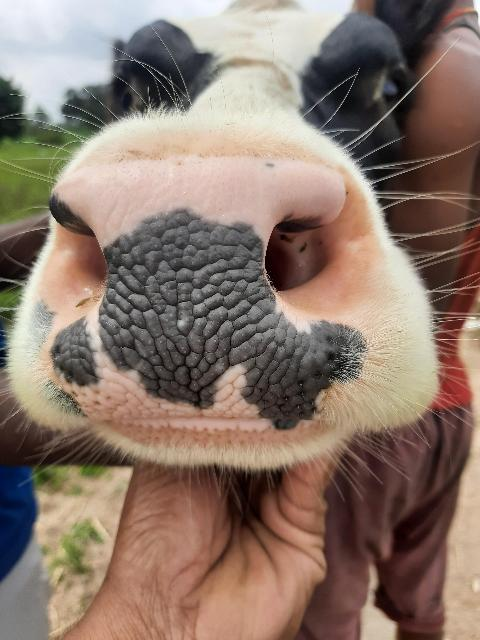Muzzle: (72, 171, 304, 431)
